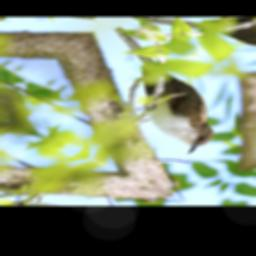Cuckoo: (36, 24, 256, 156)
